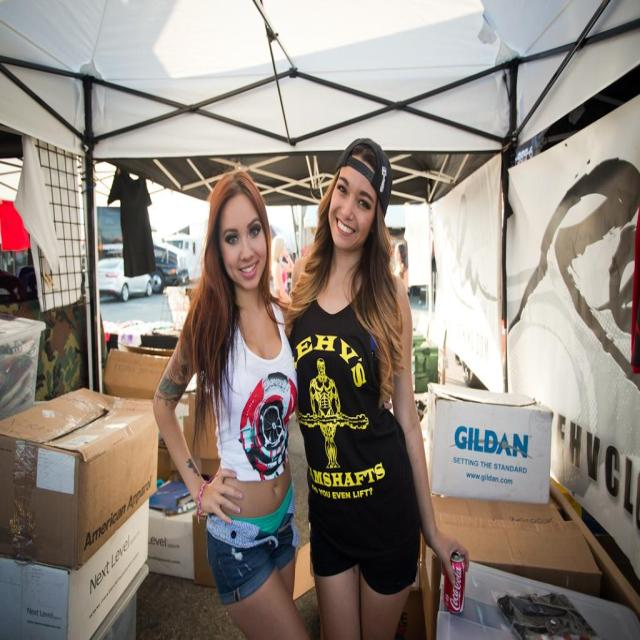Face: (210, 185, 277, 298), (324, 160, 384, 250)
